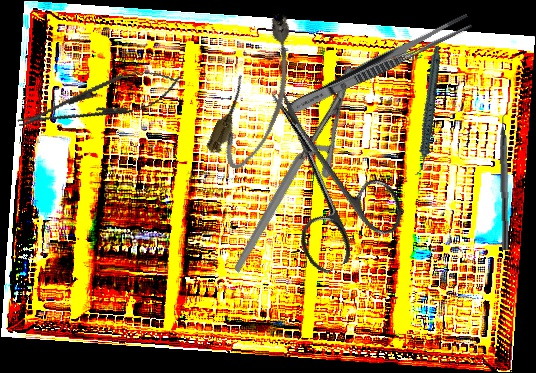Cannula: (202, 7, 317, 176)
Chopper: (497, 105, 519, 251)
Dressing Forceps: (284, 10, 474, 120)
Handpiece: (389, 45, 467, 177)
Iris Scissors: (227, 65, 414, 279)
Needle Holder: (181, 63, 406, 273), (12, 59, 186, 143)
